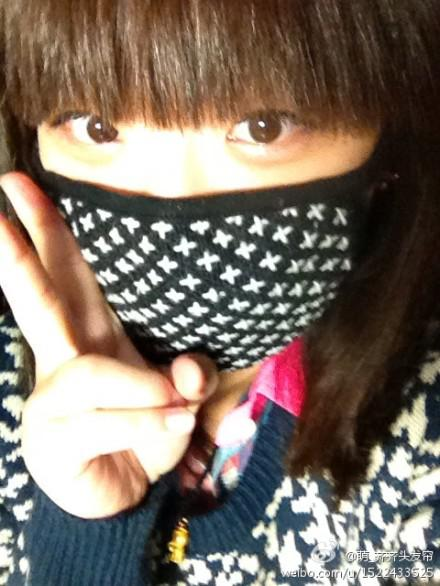OK: (45, 56, 363, 371)
